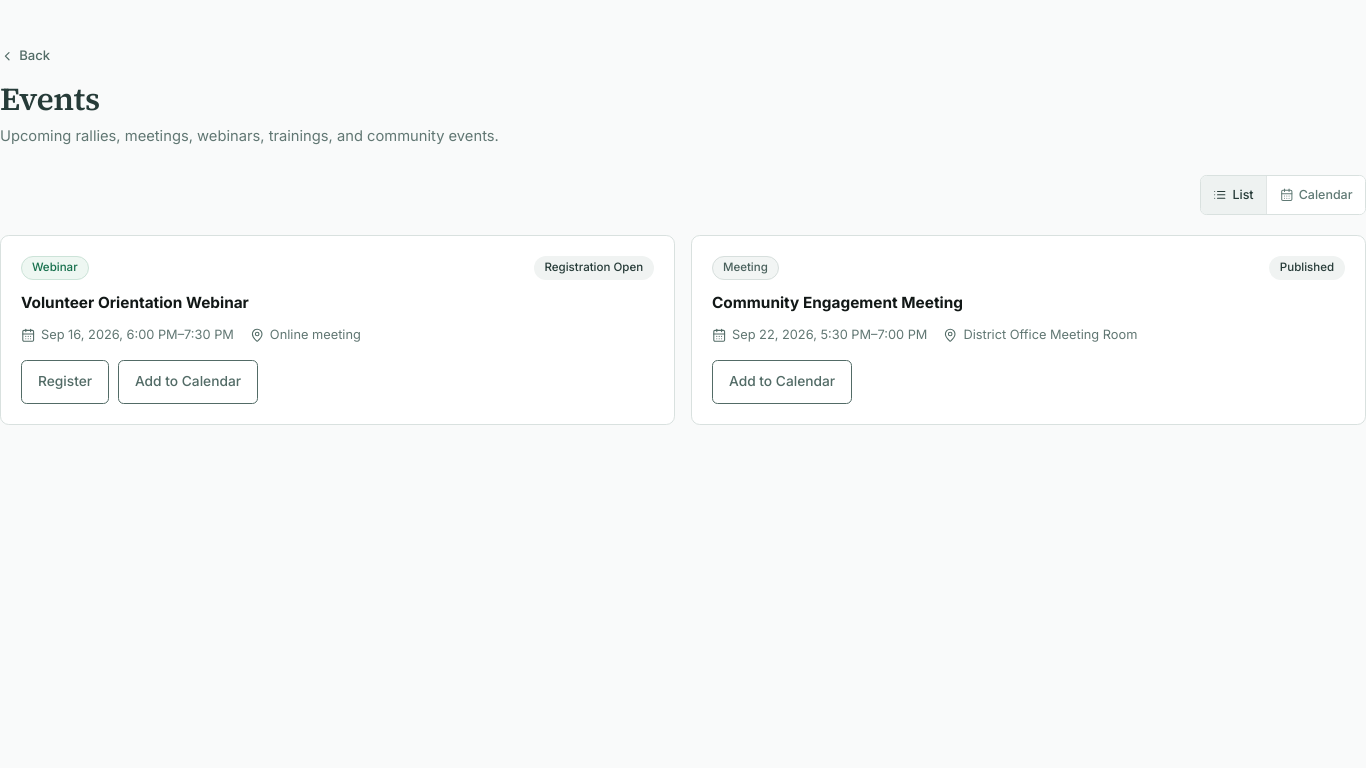
Test case: Events › opens Event details from an Event title in Calendar view
Expected: the heading "Volunteer Orientation Webinar" is shown, x1=21 y1=293 x2=249 y2=314
Click the button "Calendar". click: (1316, 195)
box: x1=1266 y1=176 x2=1365 y2=214
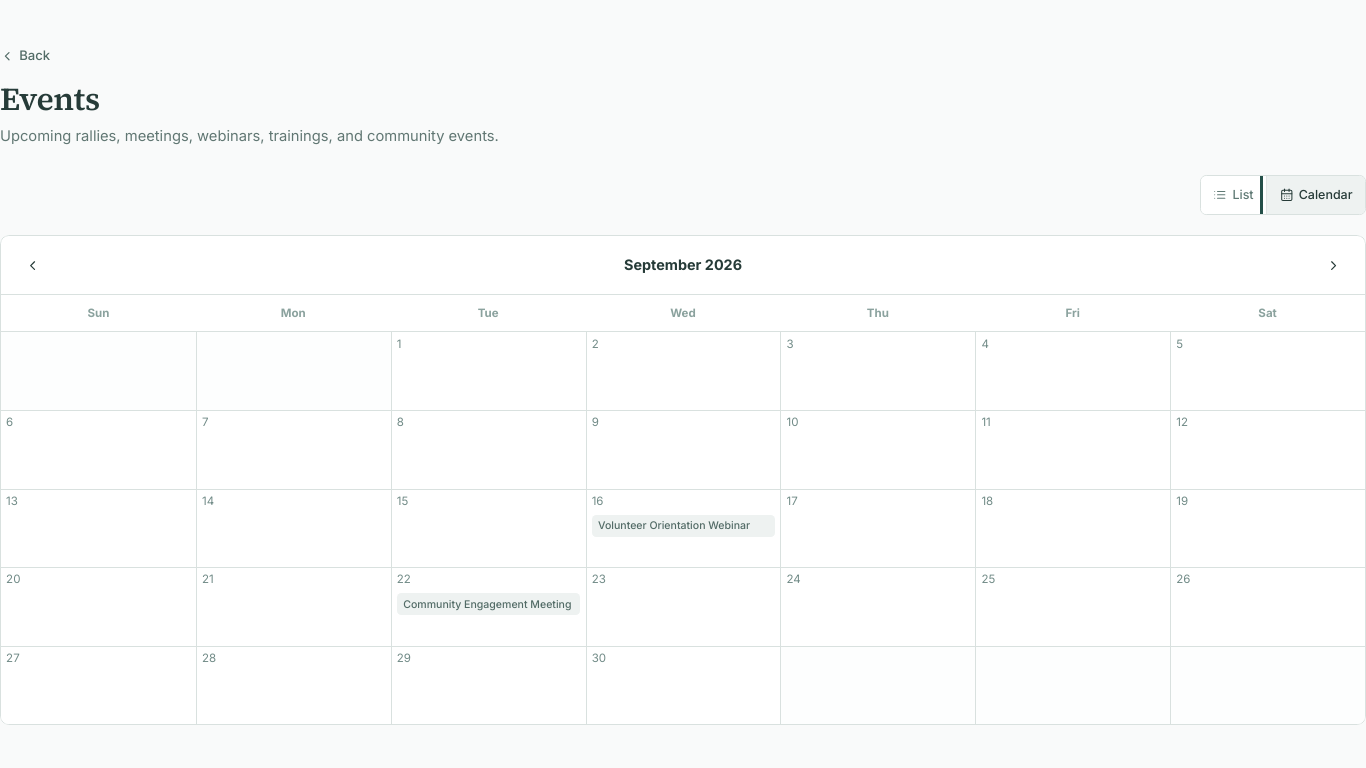
Click the button "Community Engagement Meeting". click: (489, 604)
box: x1=397 y1=593 x2=580 y2=615
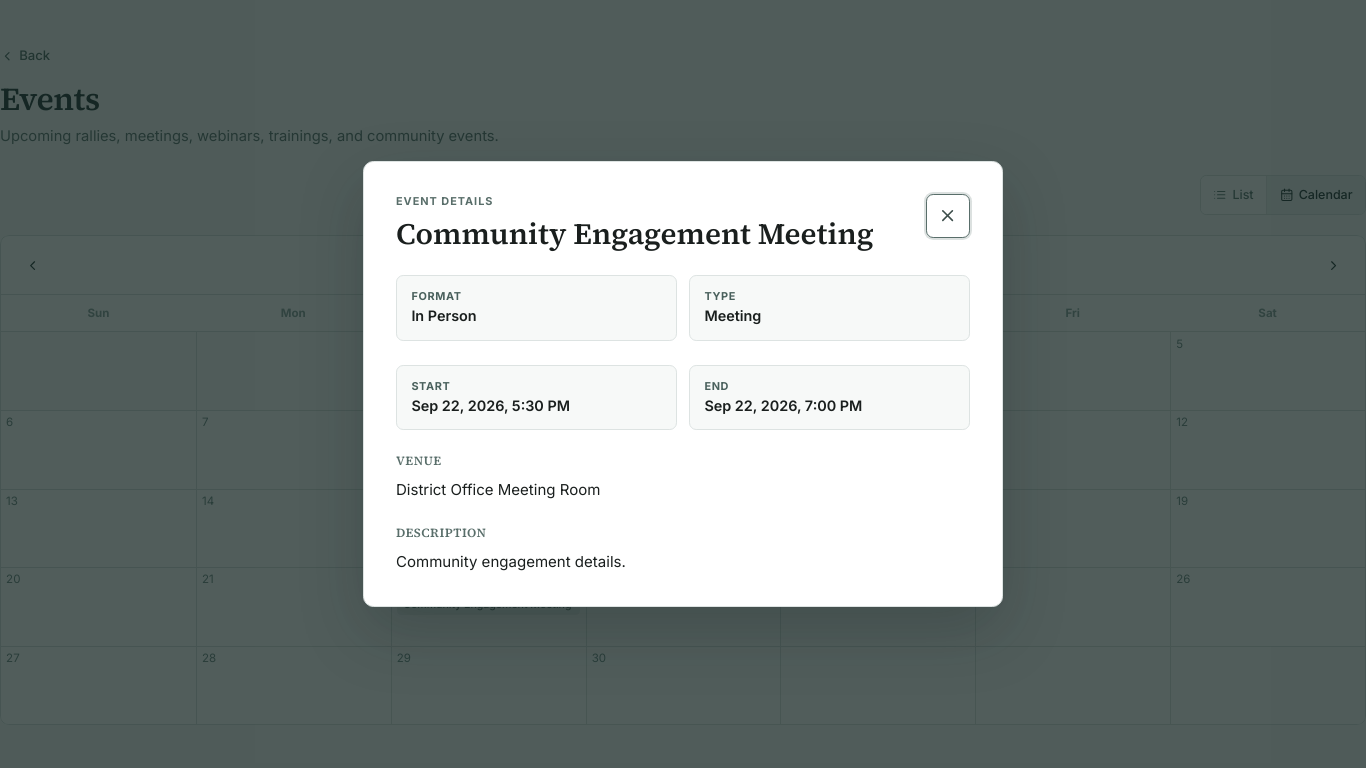
Expected: the text "In Person" is shown, x1=411 y1=307 x2=477 y2=324
Expected: the text "District Office Meeting Room" is shown, x1=396 y1=480 x2=600 y2=499
